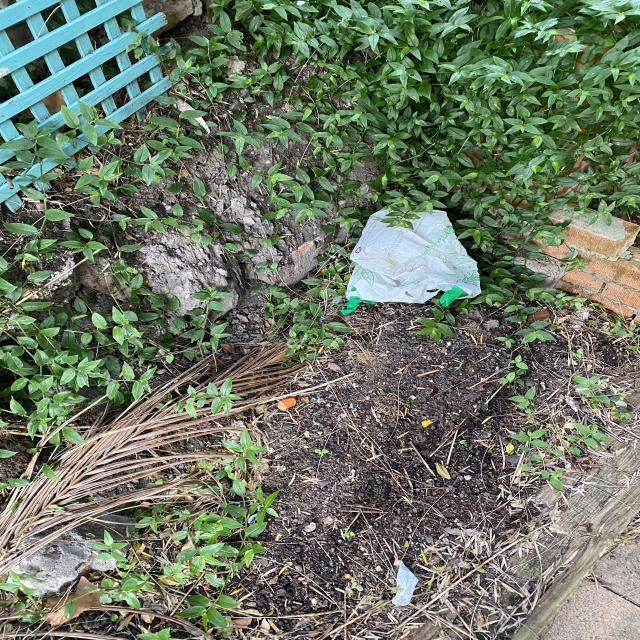bag: (347, 195, 487, 321)
cloth: (389, 555, 419, 608)
